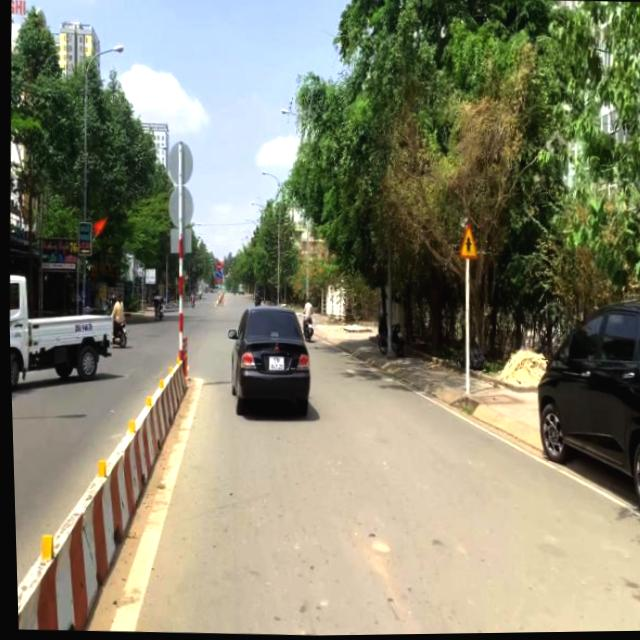Cam di nguoc chieu: (214, 262, 219, 271)
Giao nhau voi duong khong uu tien: (455, 223, 478, 262)
Vong chuong ngai vat sang phai: (214, 271, 220, 279)
